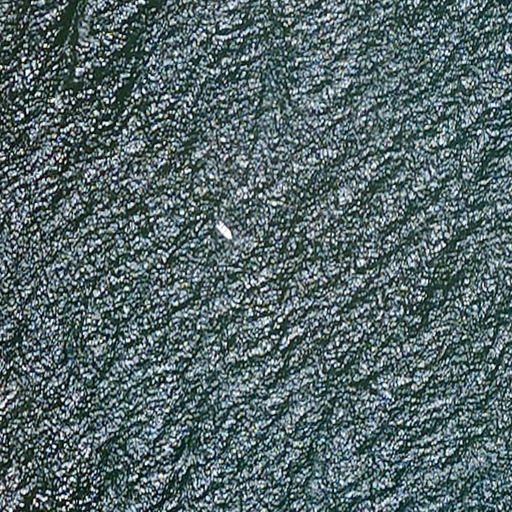ship: (212, 219, 236, 242)
